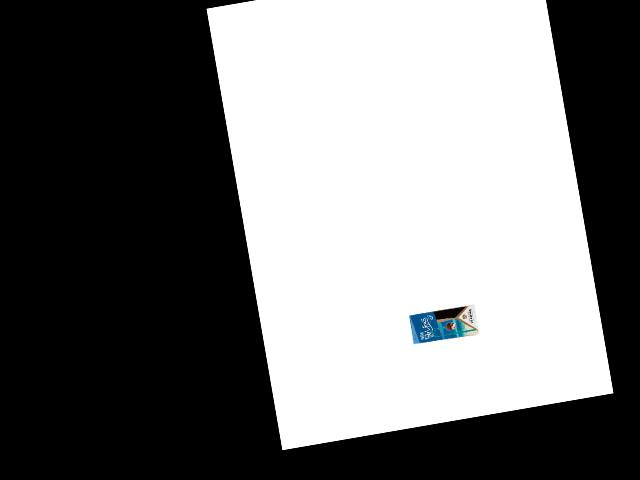chocolate: (407, 302, 481, 346)
